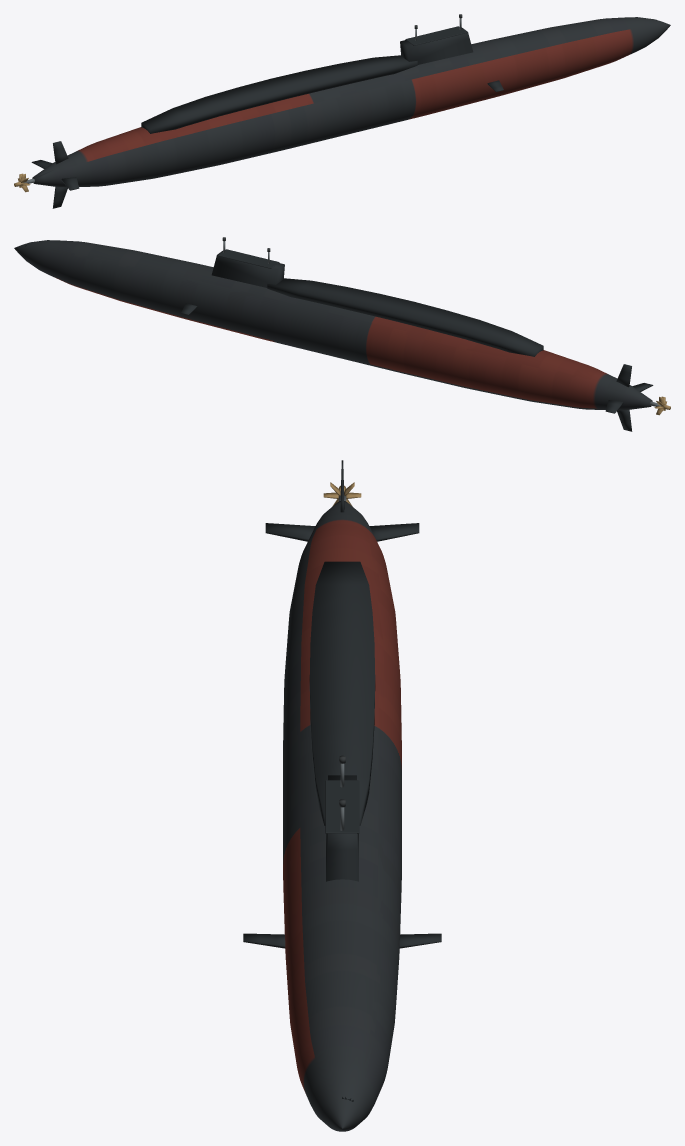
The model's file is US_SSBN_EthanAllen_LOD1.fbx.
3 views of the same model, one above another, from view 1: azimuth 30°, elevation 25°; view 2: azimuth 150°, elevation 25°; view 3: azimuth 270°, elevation 25° (orthographic). The views are drawn at different scales.
Parts seen in each view (by area): view 1: US_SSBN_EthanAllen_LOD1; view 2: US_SSBN_EthanAllen_LOD1; view 3: US_SSBN_EthanAllen_LOD1.
Part boxes in pixels (x1=…): US_SSBN_EthanAllen_LOD1: x1=14, y1=14, x2=670, y2=208; US_SSBN_EthanAllen_LOD1: x1=14, y1=237, x2=670, y2=431; US_SSBN_EthanAllen_LOD1: x1=243, y1=460, x2=441, y2=1131.
Size of the model in its own units: 129 by 16.88 by 17.68.
6 materials, 1 textured.
